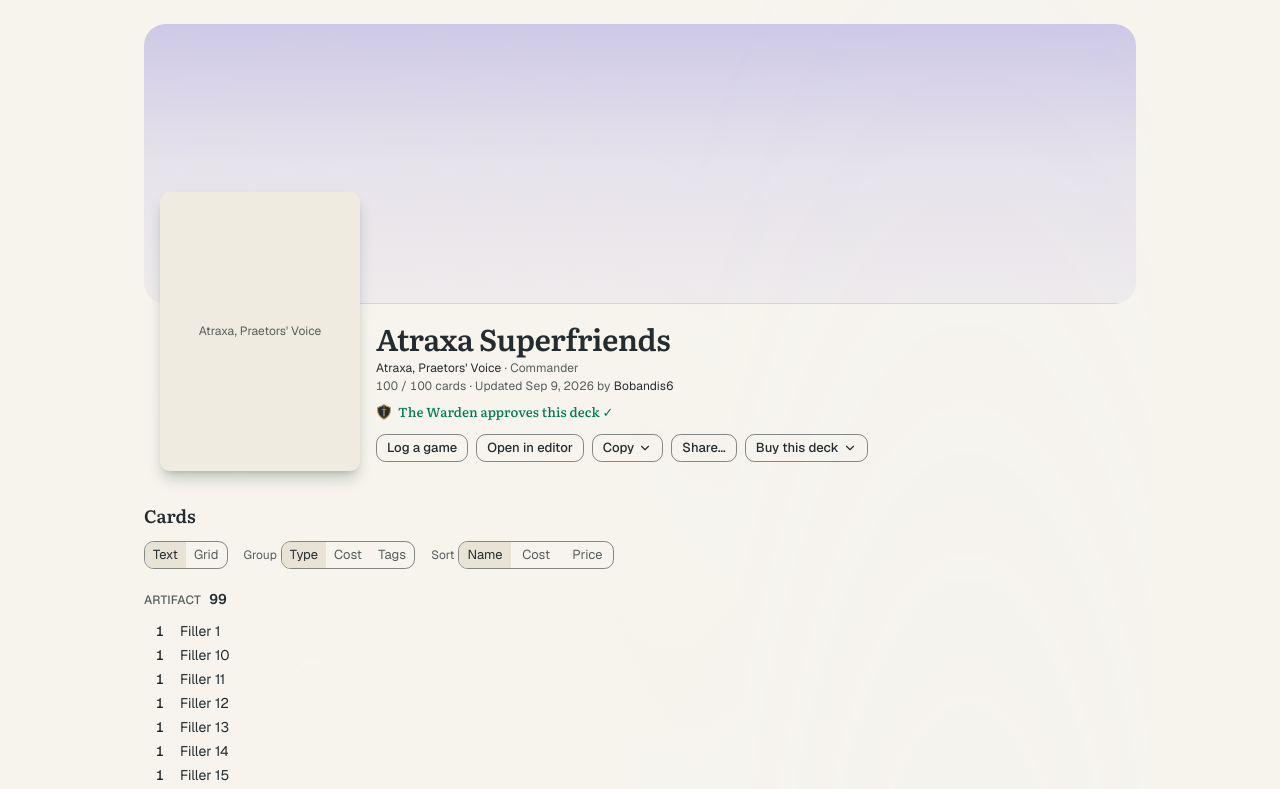
Scenario: DeckShareView — Log a game (Y9b, WAVE4 D10) › the private gate's guest owner (the server says isOwner — the gate sent the token): still the sentence
Click the button "Log a game": coordinates (422, 448) [376,434,468,462]
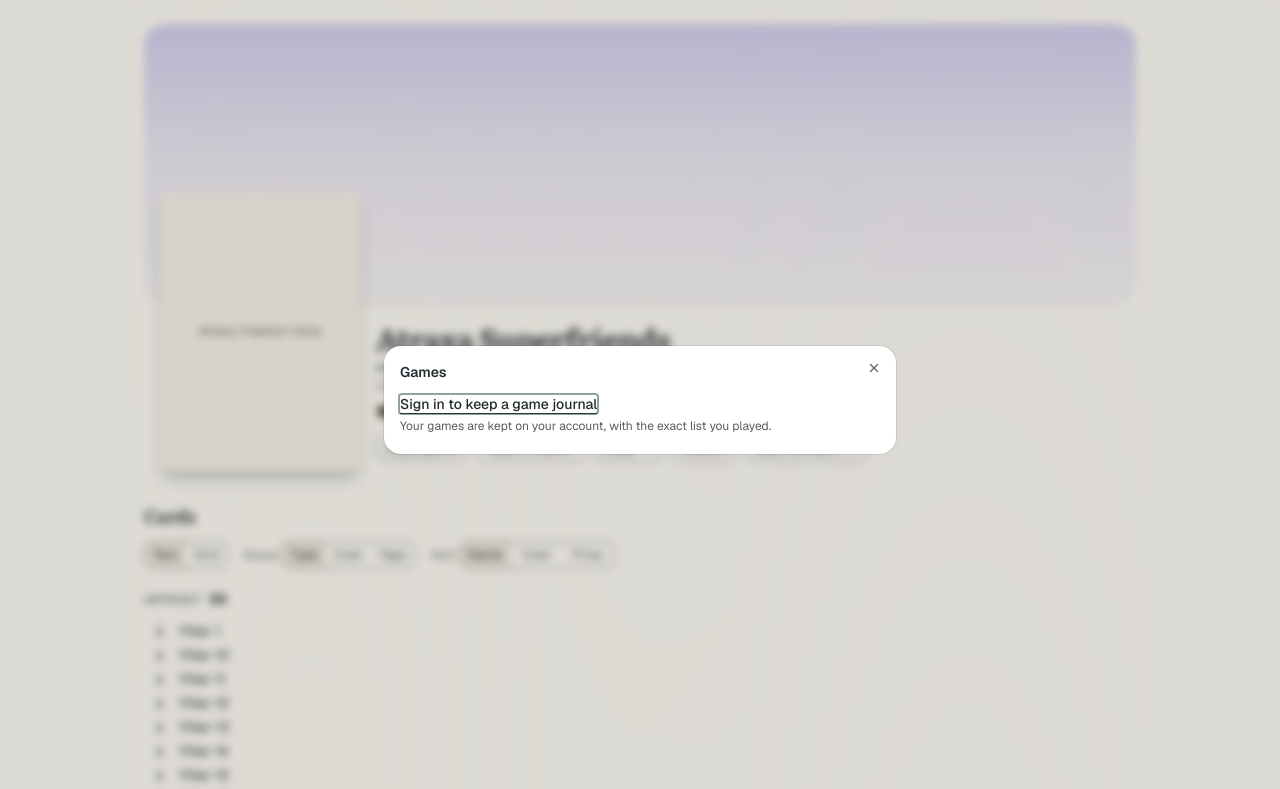
Now the link "Sign in to keep a game journal" is shown, box [400,395,597,413]
